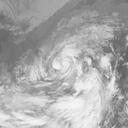cyclone: (40, 45, 83, 84)
